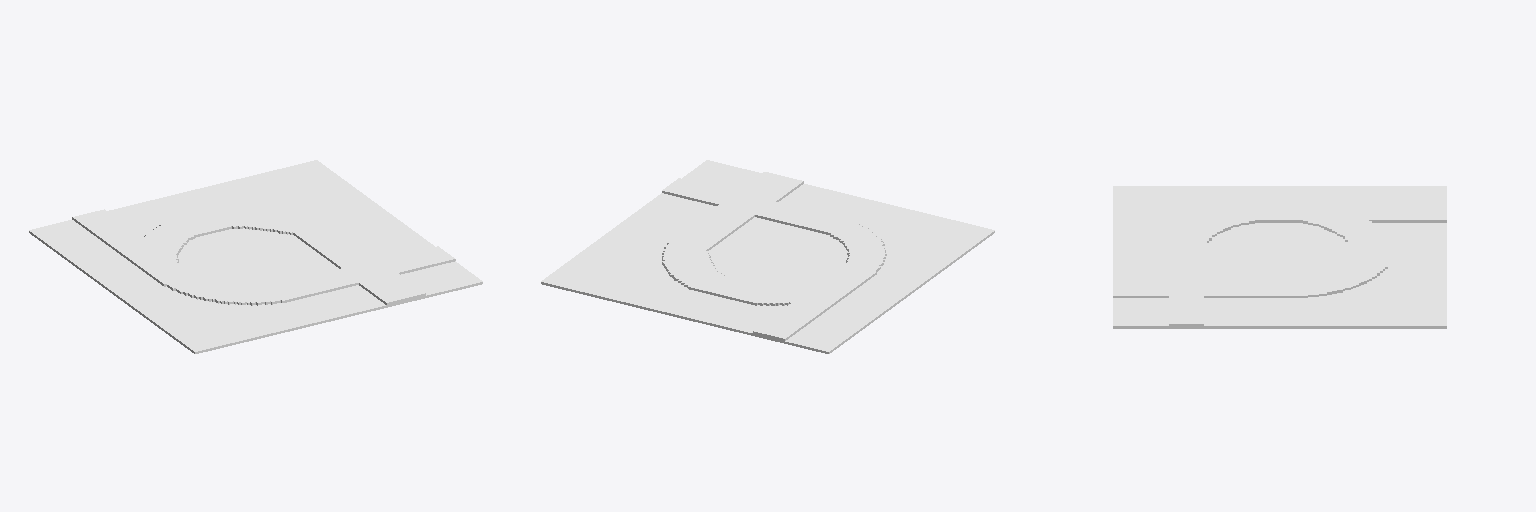
Rendered from map1.obj.
3 views of the same model, side by side, from view 1: azimuth 30°, elevation 25°; view 2: azimuth 150°, elevation 25°; view 3: azimuth 270°, elevation 25° (orthographic).
Bounding box in the file's own units: 125 × 2 × 125.